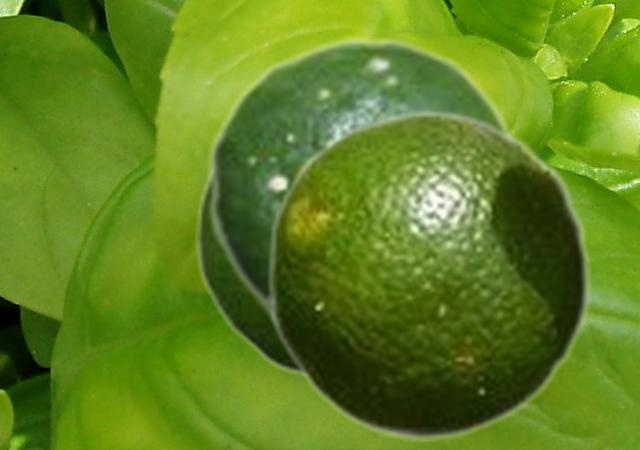calamansi: (265, 109, 592, 440), (207, 36, 521, 323), (195, 165, 303, 381)
